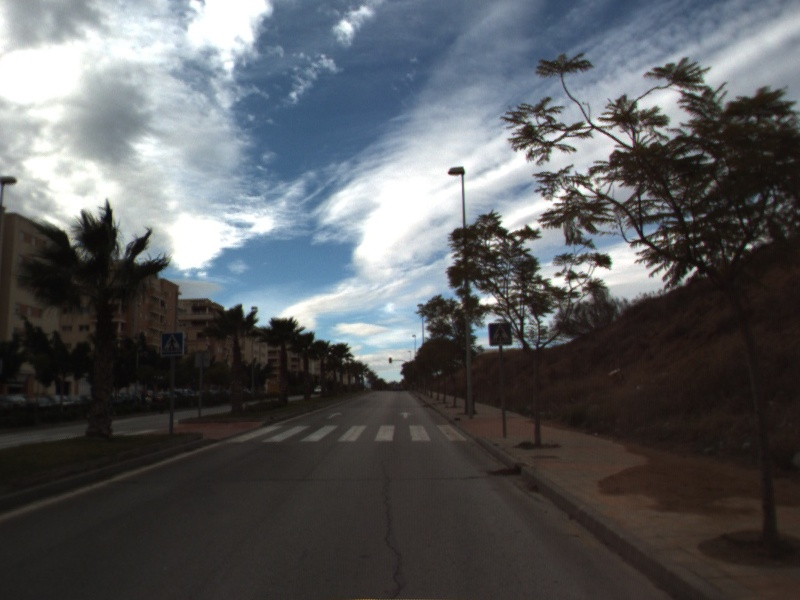STRAIGHT: (324, 410, 345, 421), (397, 409, 415, 421)
